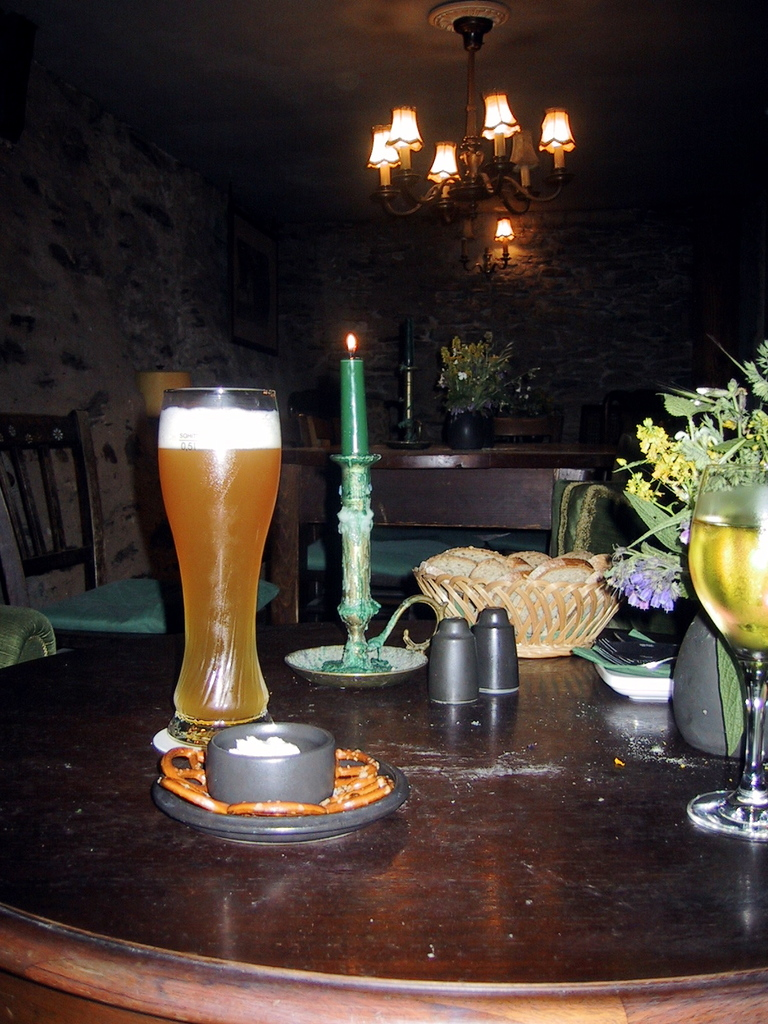Beer: (156, 397, 280, 719), (686, 513, 764, 652)
